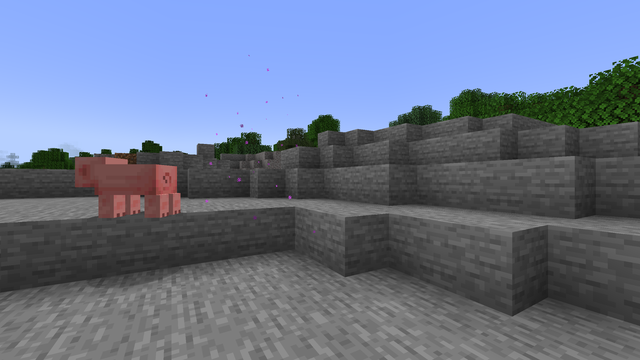cochons: (99, 161, 168, 220)
